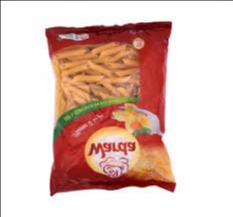plume: (50, 21, 172, 195)
